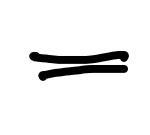eqv: (25, 46, 134, 85)
